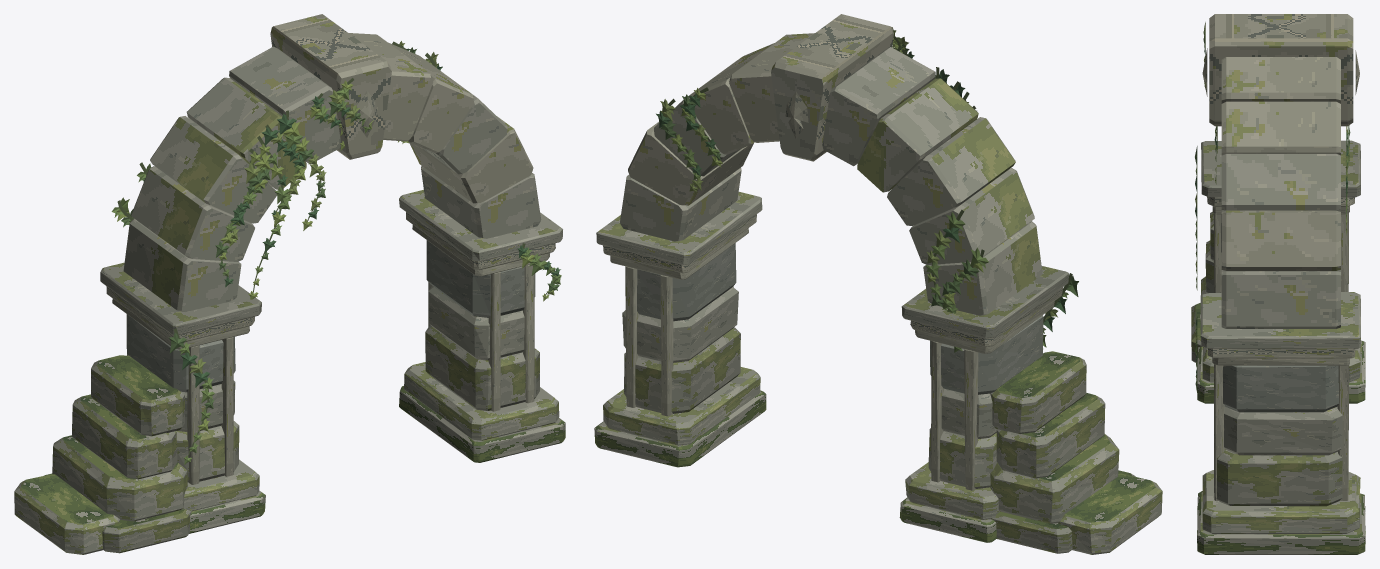
File: ruin_briar_gate.glb
3 views of the same model, side by side, from view 1: azimuth 30°, elevation 25°; view 2: azimuth 150°, elevation 25°; view 3: azimuth 270°, elevation 25° (orthographic). The views are drawn at different scales.
Visible parts, largest first — view 1: ruin_briar_gate; view 2: ruin_briar_gate; view 3: ruin_briar_gate.
Part boxes in pixels (box(x1,y1,x2,y2)): ruin_briar_gate: box(14, 14, 565, 554); ruin_briar_gate: box(594, 14, 1162, 554); ruin_briar_gate: box(1191, 14, 1365, 554).
Bounding box in the file's own units: 4.83 × 3.9 × 1.43.
2 materials, 1 textured.
